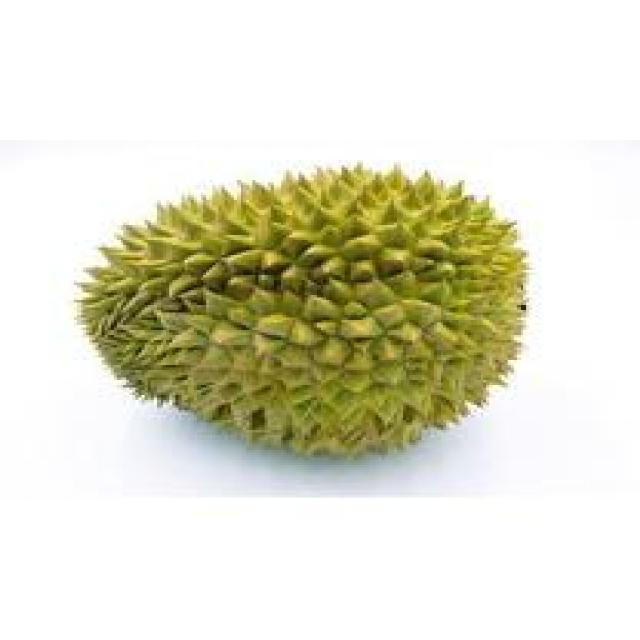fruit: (197, 125, 566, 500), (43, 127, 382, 505)
